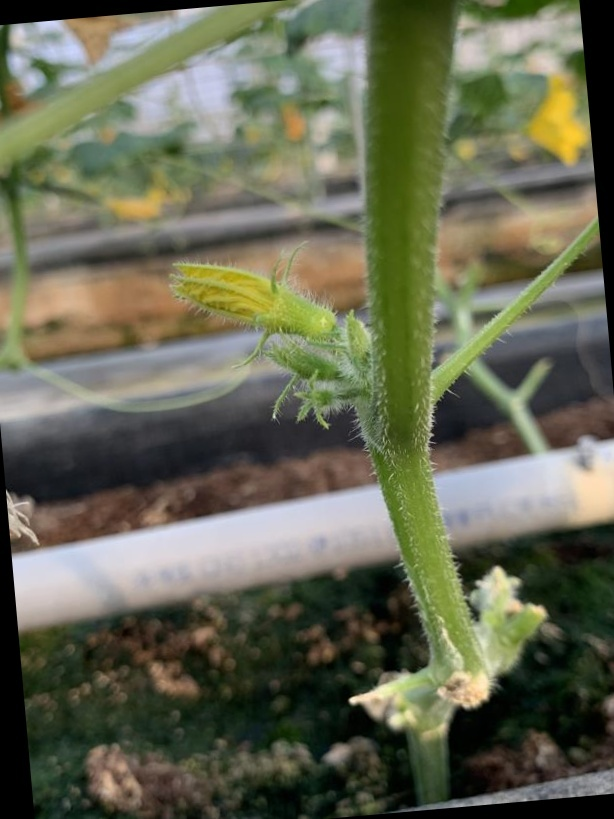bud: (167, 236, 339, 363)
